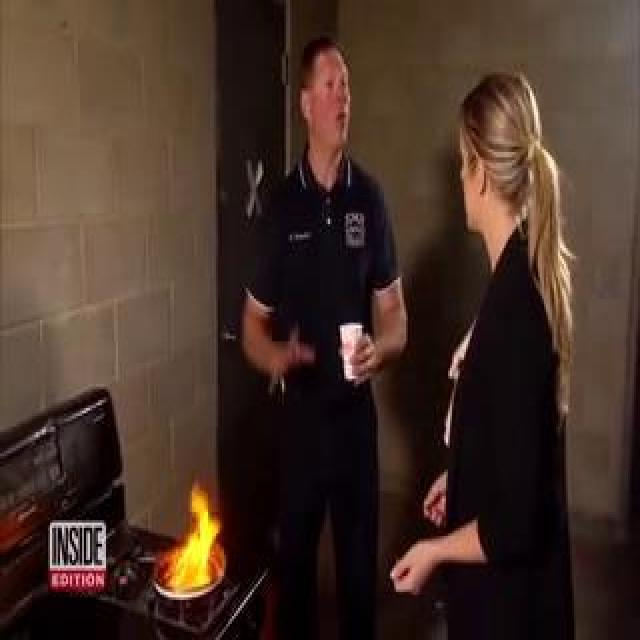Fire: (62, 98, 199, 538)
